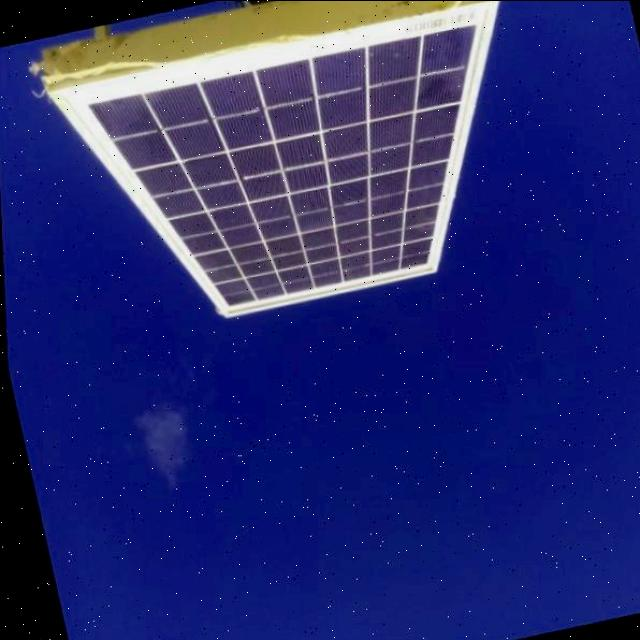Normal Solar Panel: (44, 0, 556, 339)
